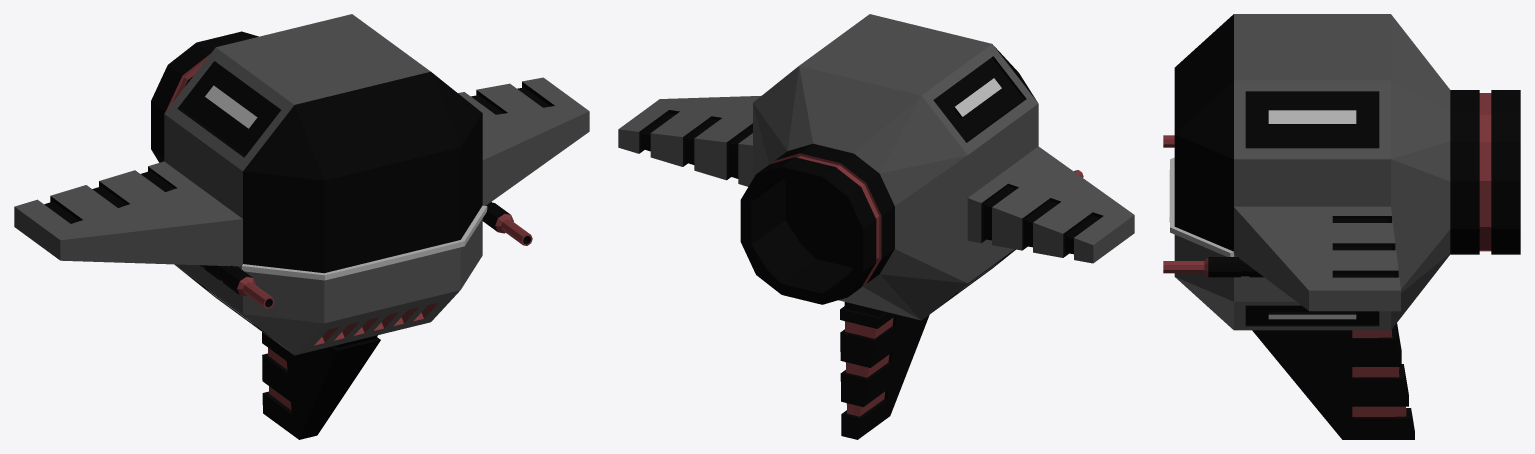
File: Spaceship1_2.fbx
The picture shows the model from 3 angles, left to right: view 1: azimuth 30°, elevation 25°; view 2: azimuth 150°, elevation 25°; view 3: azimuth 270°, elevation 25°; orthographic projection. The views are drawn at different scales.
Visible parts, largest first — view 1: Spaceship1_2; view 2: Spaceship1_2; view 3: Spaceship1_2.
Part boxes in pixels (x1=…): Spaceship1_2: x1=14, y1=14, x2=589, y2=439; Spaceship1_2: x1=618, y1=14, x2=1134, y2=439; Spaceship1_2: x1=1163, y1=14, x2=1520, y2=439.
Size of the model in its own units: 442 by 311 by 259.
